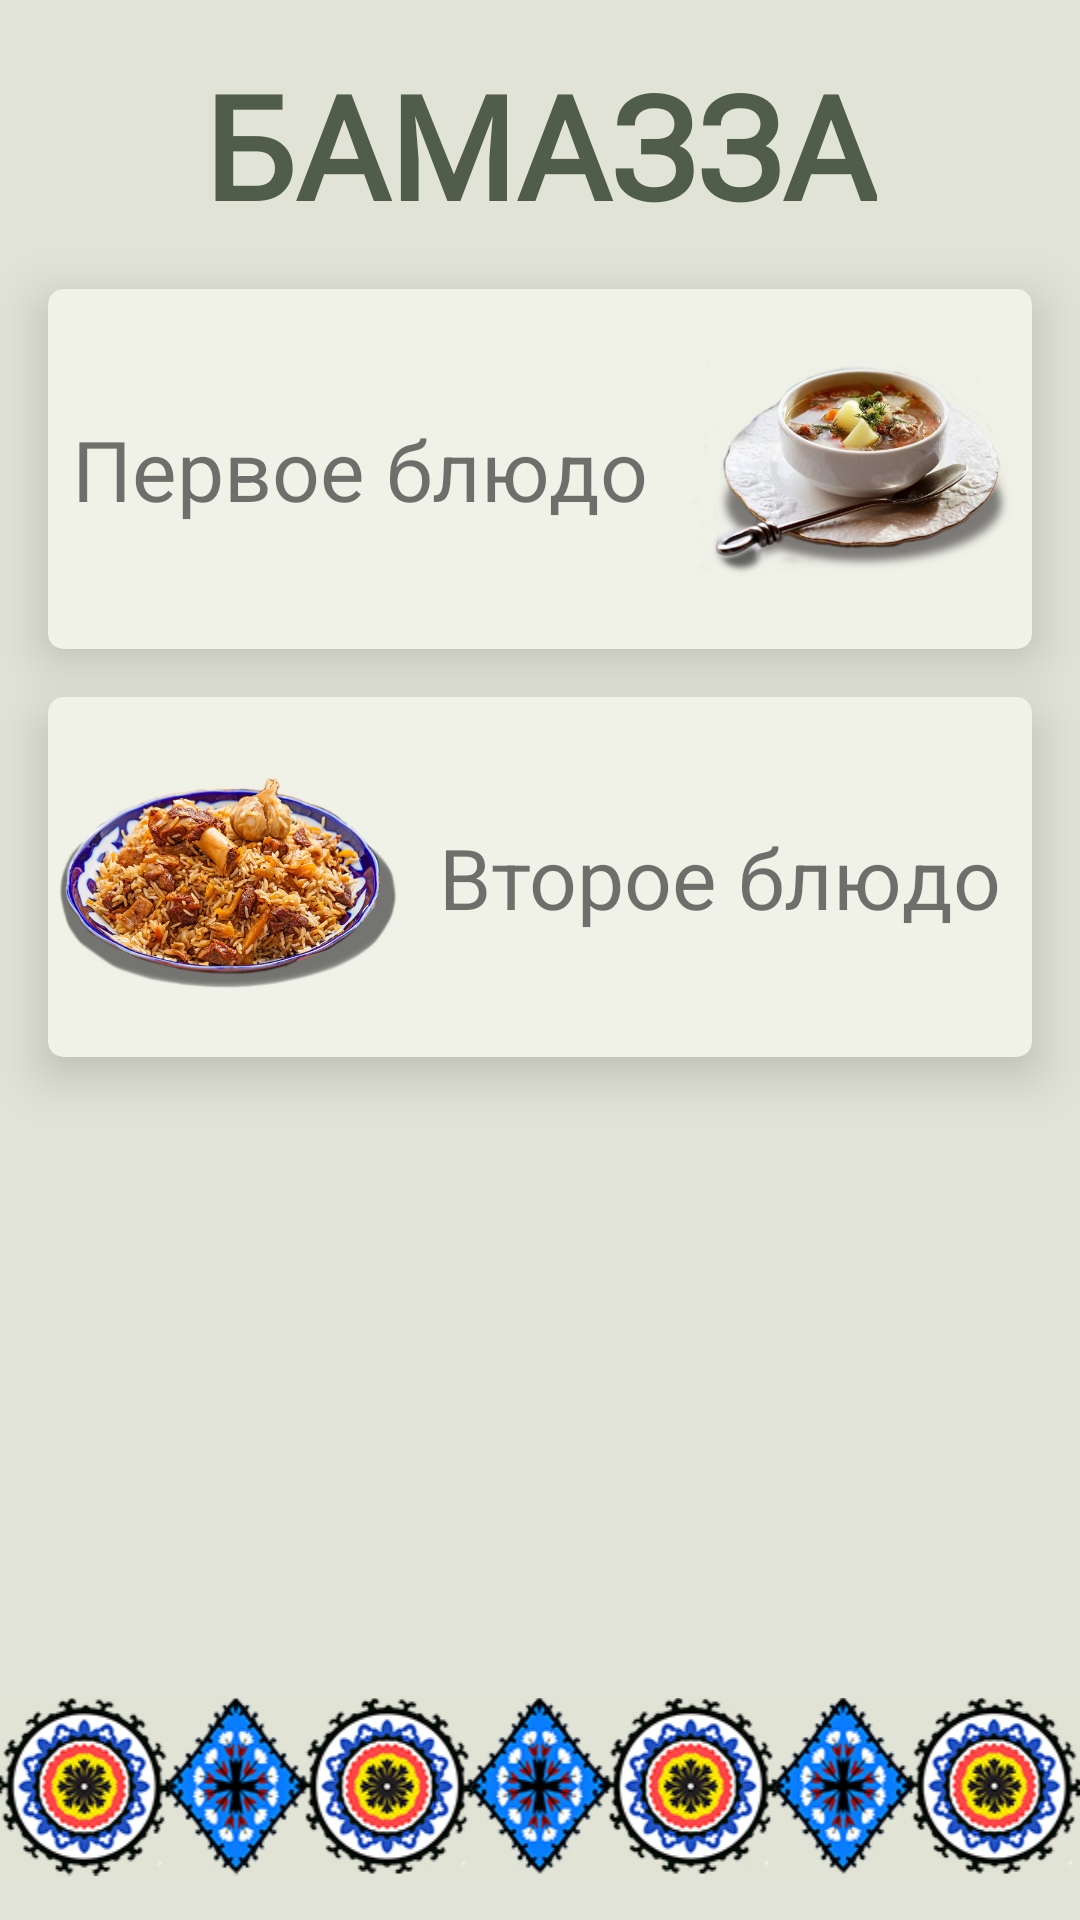

Icons on this 1080px×1920px Android screen, each with the point to tap as (x=x, y=y):
homshurbo: (x=852, y=469)
osh: (x=228, y=877)
